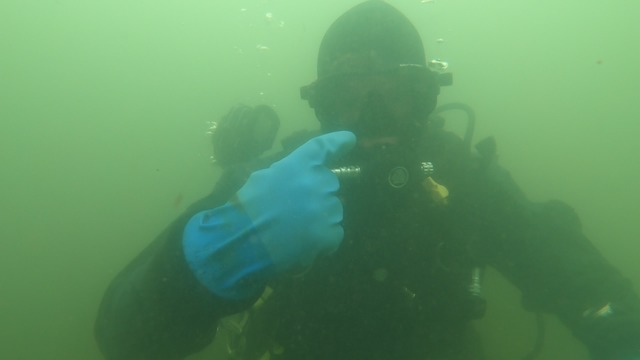Hand: (172, 122, 365, 321)
